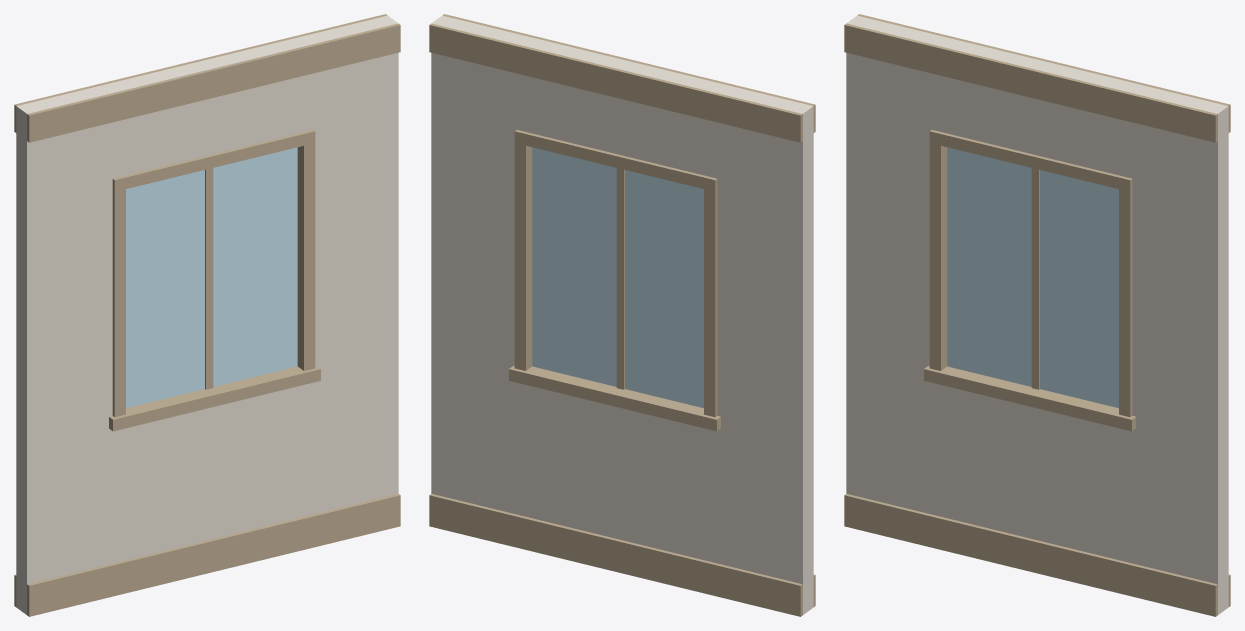
The model's file is partitionWindow.glb.
3 renders of one model, left to right at view 1: azimuth 30°, elevation 25°; view 2: azimuth 150°, elevation 25°; view 3: azimuth 330°, elevation 25°, orthographic.
Parts seen in each view (by area): view 1: partitionWindow; view 2: partitionWindow; view 3: partitionWindow.
Boxes of the visible parts, x1,y1,x2,y2 form: partitionWindow: [14, 14, 400, 616]; partitionWindow: [429, 14, 815, 616]; partitionWindow: [844, 14, 1230, 616].
Size of the model in its own units: 1 by 1.29 by 0.09.
Materials: 1 (1 with a texture image).
